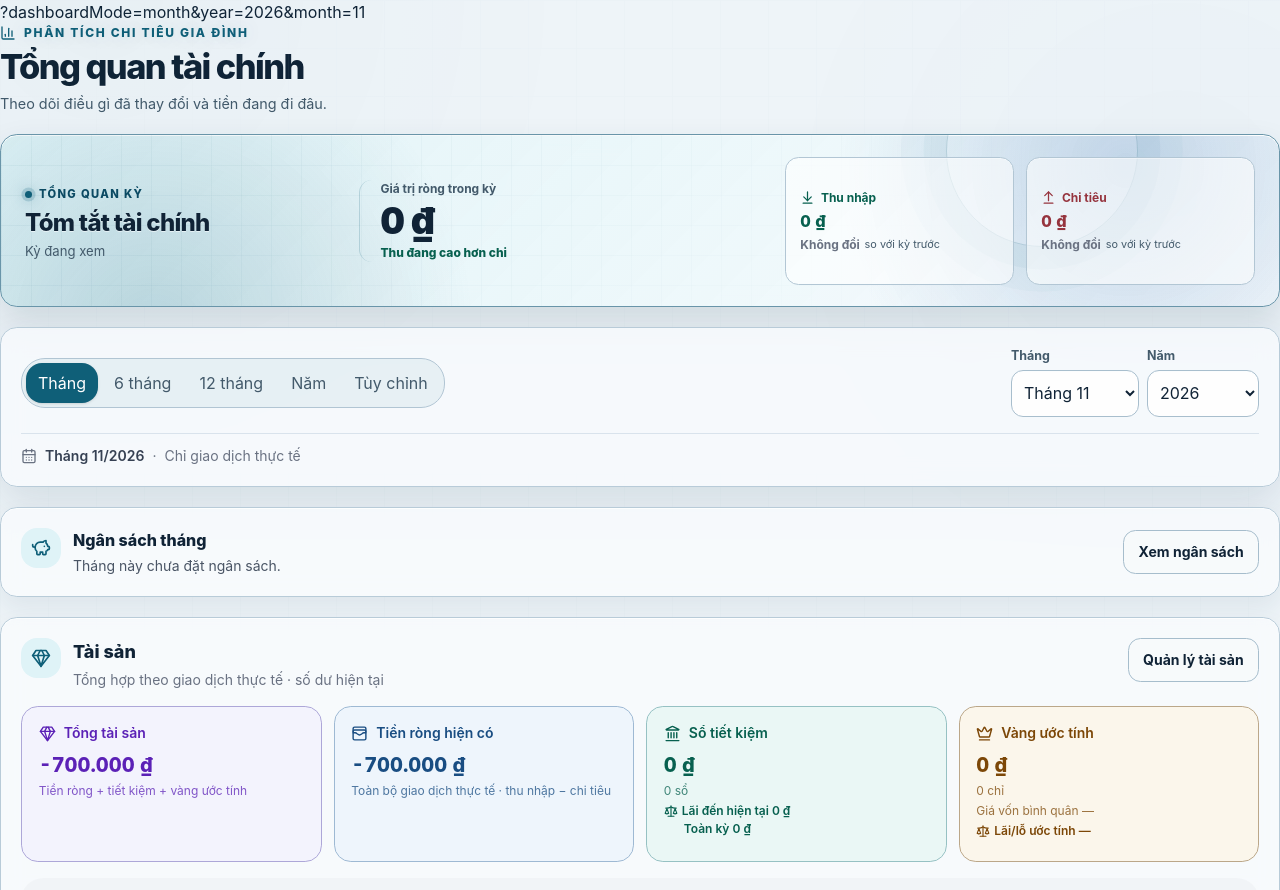
Test: Dashboard › lọc chính xác ngày trong kỳ tùy chỉnh
The image size is (1280, 890).
Click the button "Tùy chỉnh". click: {"x": 391, "y": 382}
box: [342, 362, 440, 402]
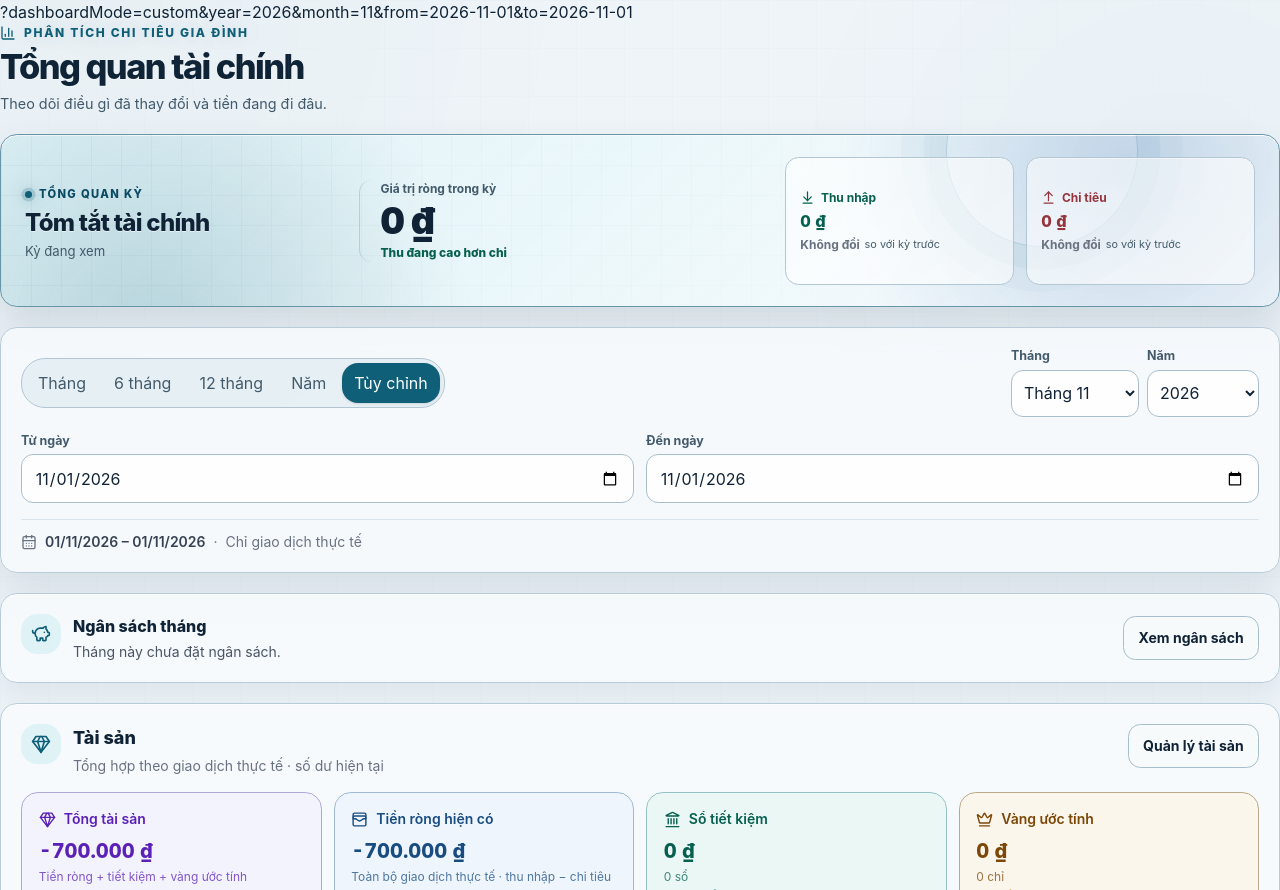
Type "2026-02-10" into the date field labelled "Từ ngày". click: {"x": 328, "y": 479}
box: [21, 454, 634, 503]
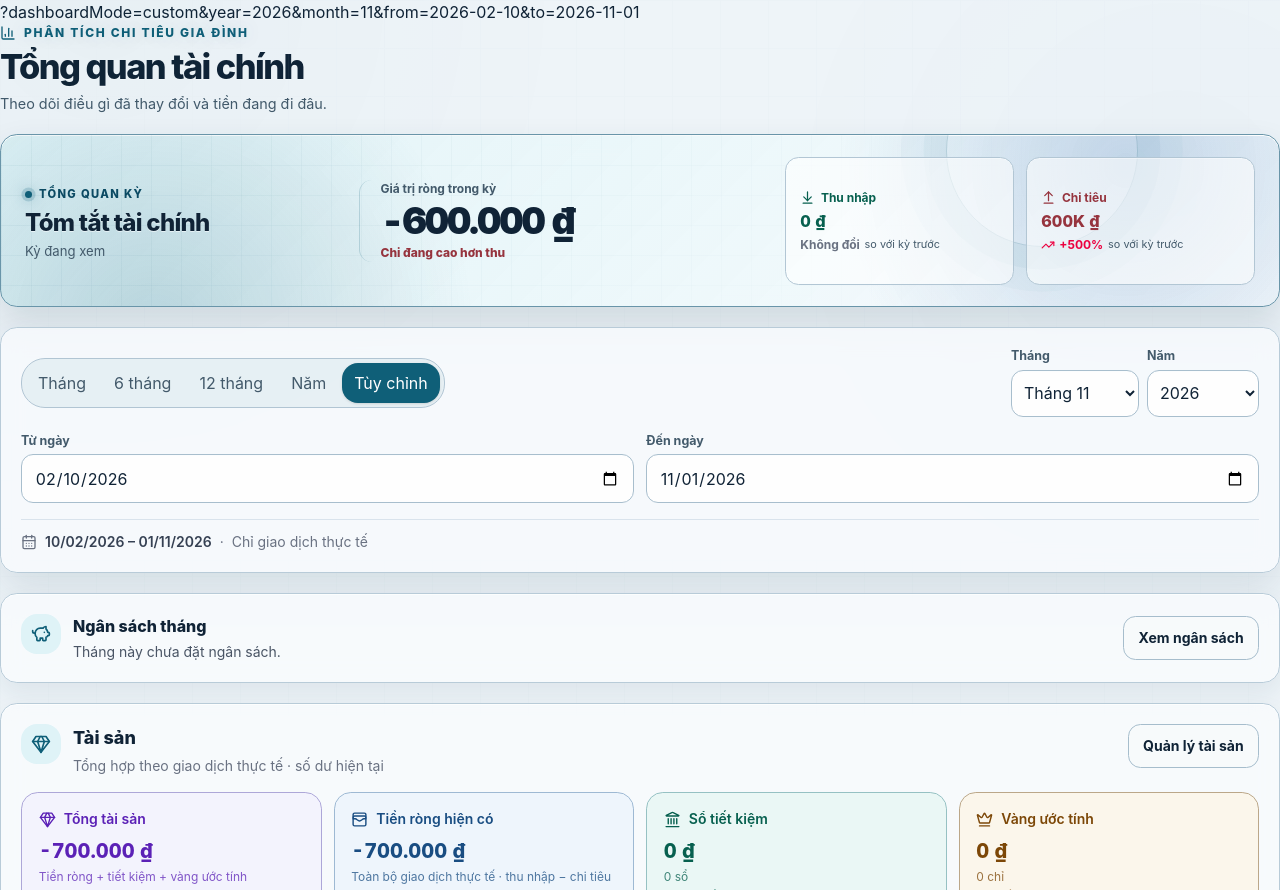
Type "2026-02-28" into the date field labelled "Đến ngày". click: {"x": 952, "y": 479}
box: [646, 454, 1259, 503]
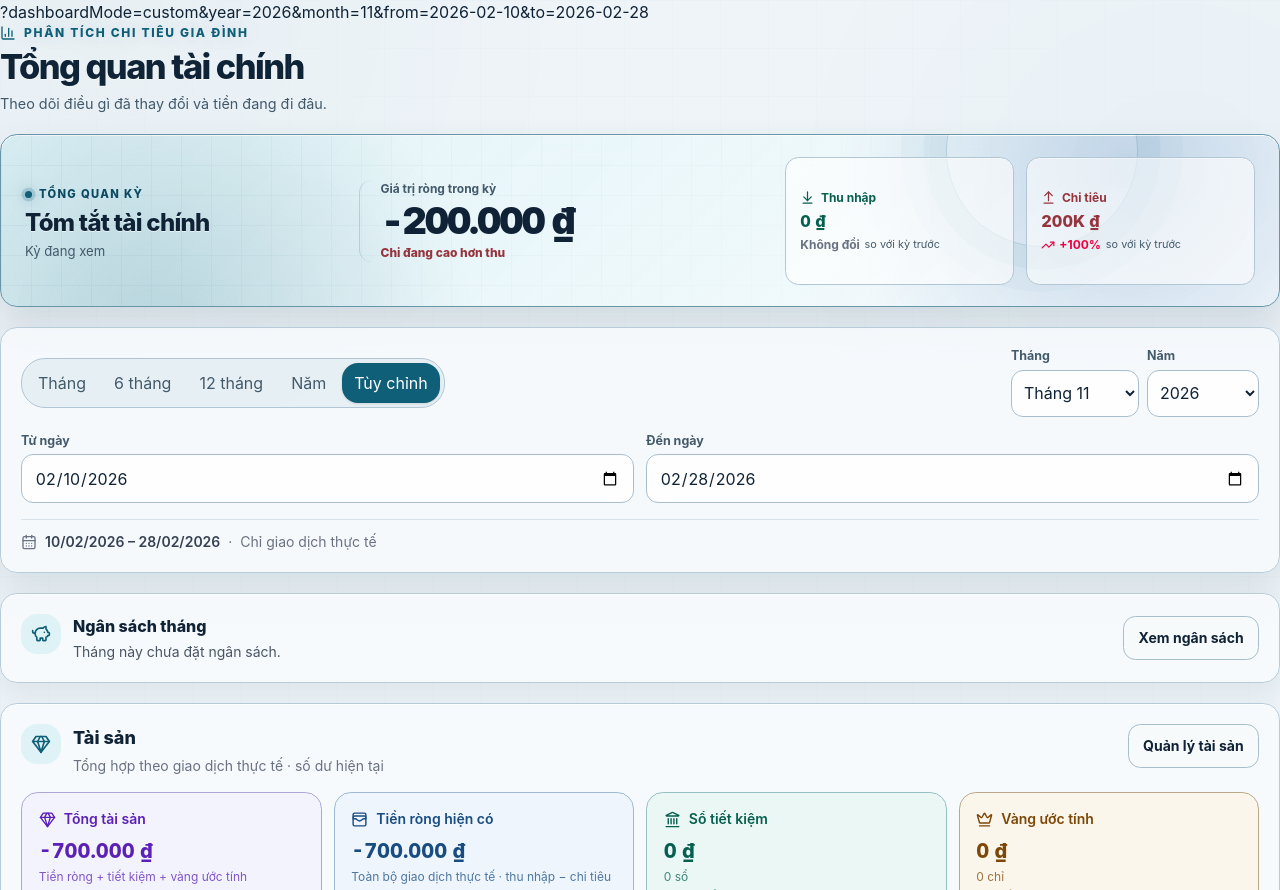
Expected: the link named "Chi tiêu Chi tiêu" shows "200K", [1026, 157, 1255, 285]
Expected: the text "10/02/2026 – 28/02/2026" is shown, [45, 532, 220, 552]
